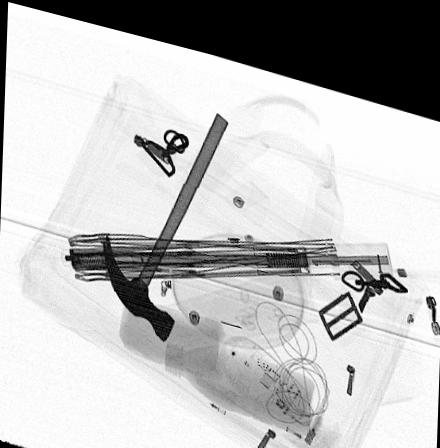Hammer: (101, 100, 229, 334)
